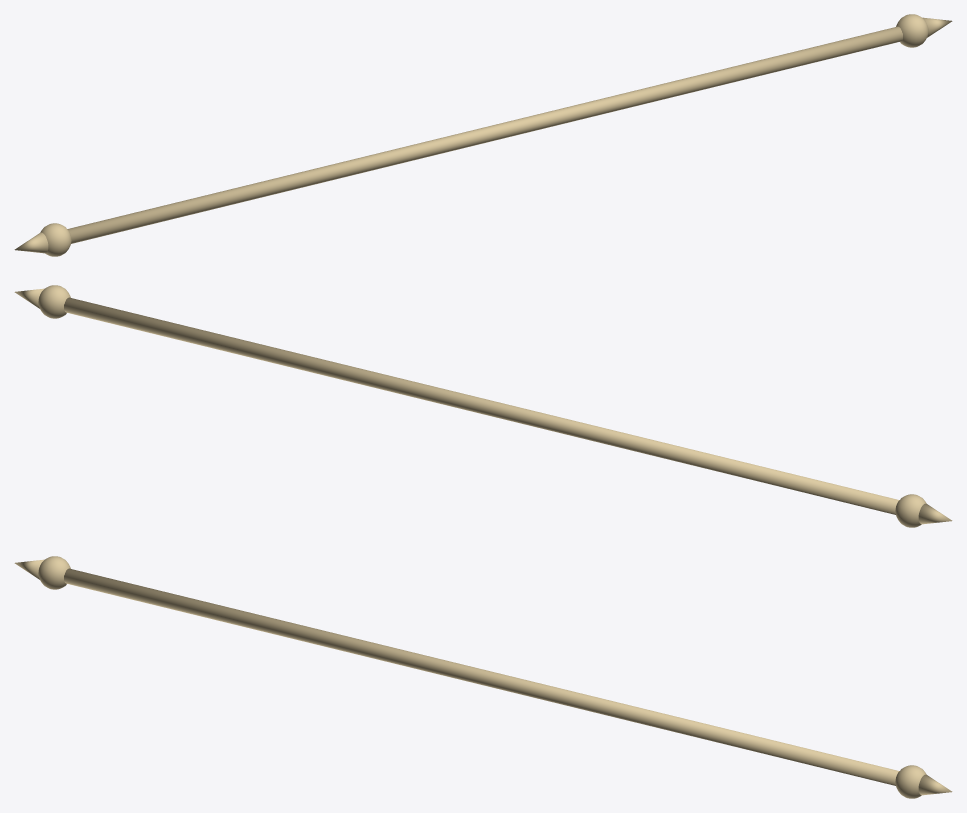
Rendered from rod.glb.
The picture shows the model from 3 angles, top to bottom: view 1: azimuth 30°, elevation 25°; view 2: azimuth 150°, elevation 25°; view 3: azimuth 330°, elevation 25°; orthographic projection.
Parts seen in each view (by area): view 1: Rod_Mesh; view 2: Rod_Mesh; view 3: Rod_Mesh.
Boxes of the visible parts, x1,y1,x2,y2 form: Rod_Mesh: [14, 14, 952, 256]; Rod_Mesh: [14, 285, 952, 527]; Rod_Mesh: [14, 556, 952, 798].
Bounding box in the file's own units: 7.12 × 0.2188 × 0.2188.
